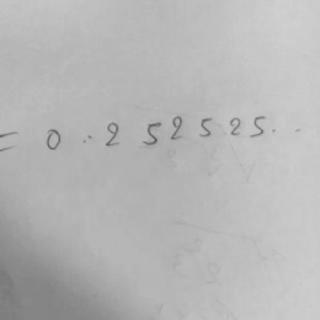.: (80, 128, 96, 148), (270, 125, 284, 139)
0: (44, 126, 68, 151)
2: (105, 122, 123, 148), (172, 114, 187, 141), (229, 115, 243, 142)
5: (142, 119, 162, 147), (252, 113, 267, 141), (200, 114, 216, 138)
